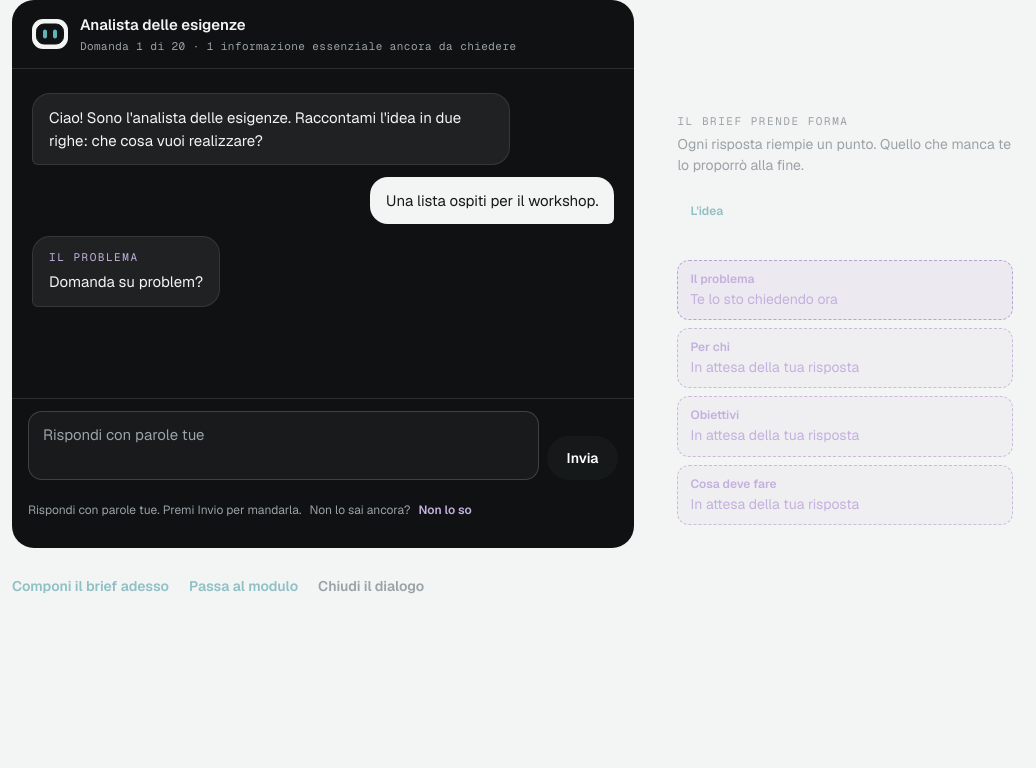
Test: project brief dialogue › shows a translated error and keeps the answer after a failed turn
Type "Si perdono i nomi." into the text box with test id "brief-dialogue-answer".
click(283, 445); type("Si perdono i nomi.")  # box [28,410,539,480]
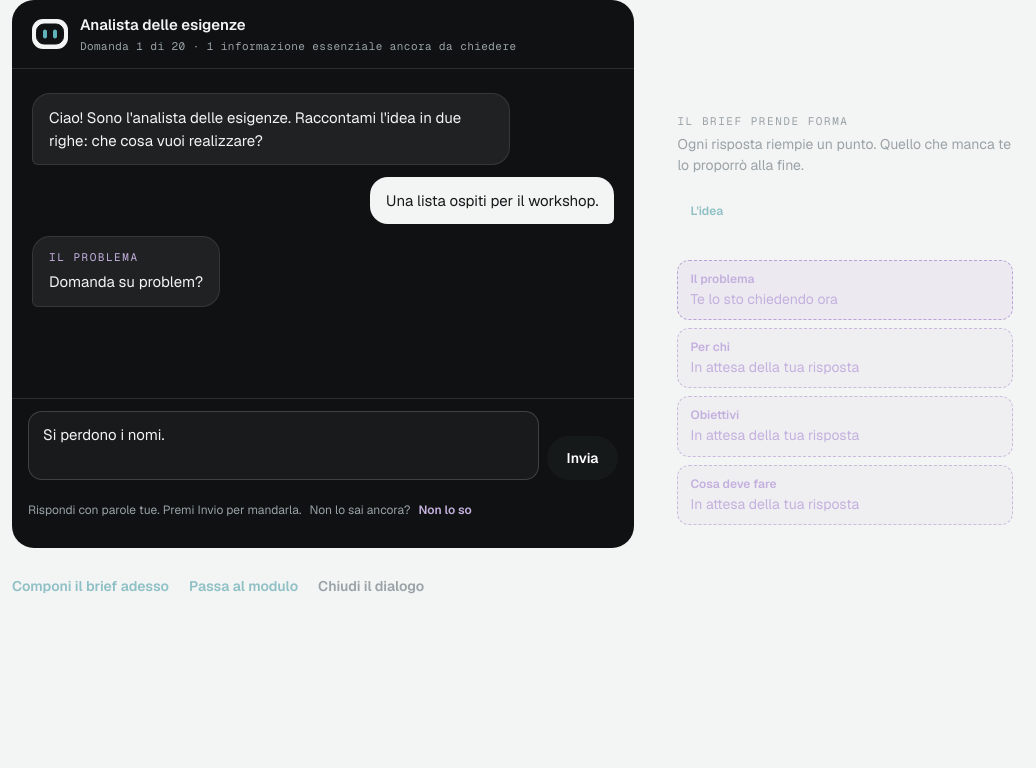
Submit the form, box [12,398,634,548]
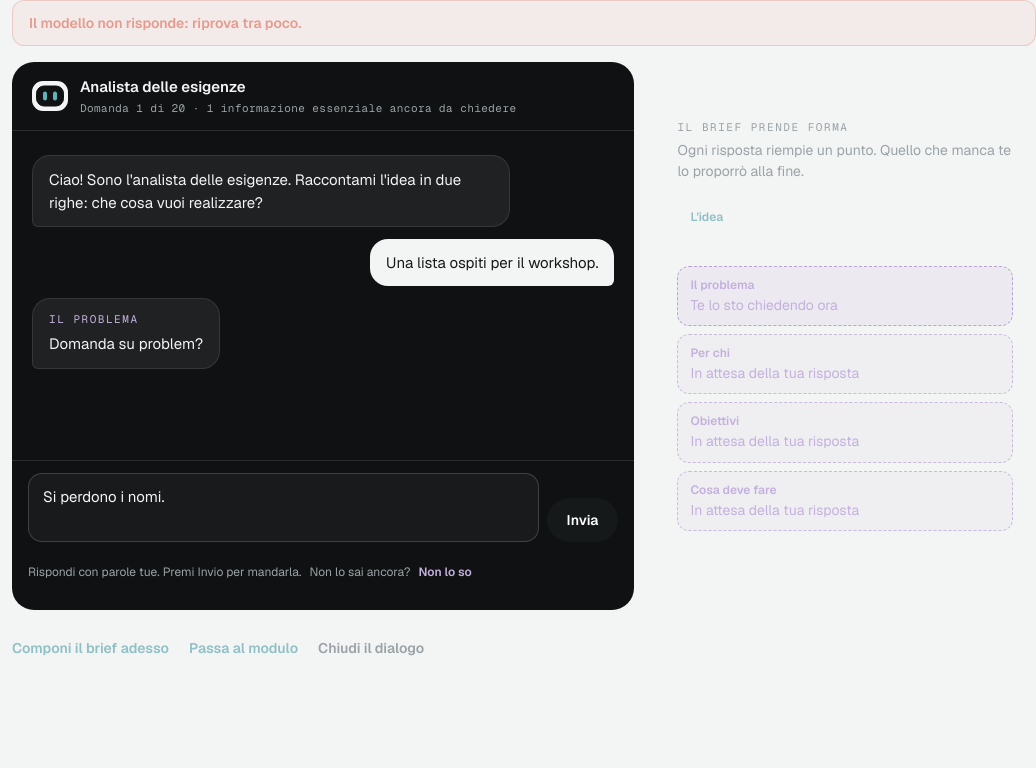
Now the message with test id "brief-dialogue-error" reads "Il modello non risponde: riprova tra poco.", box [29,14,301,32]
